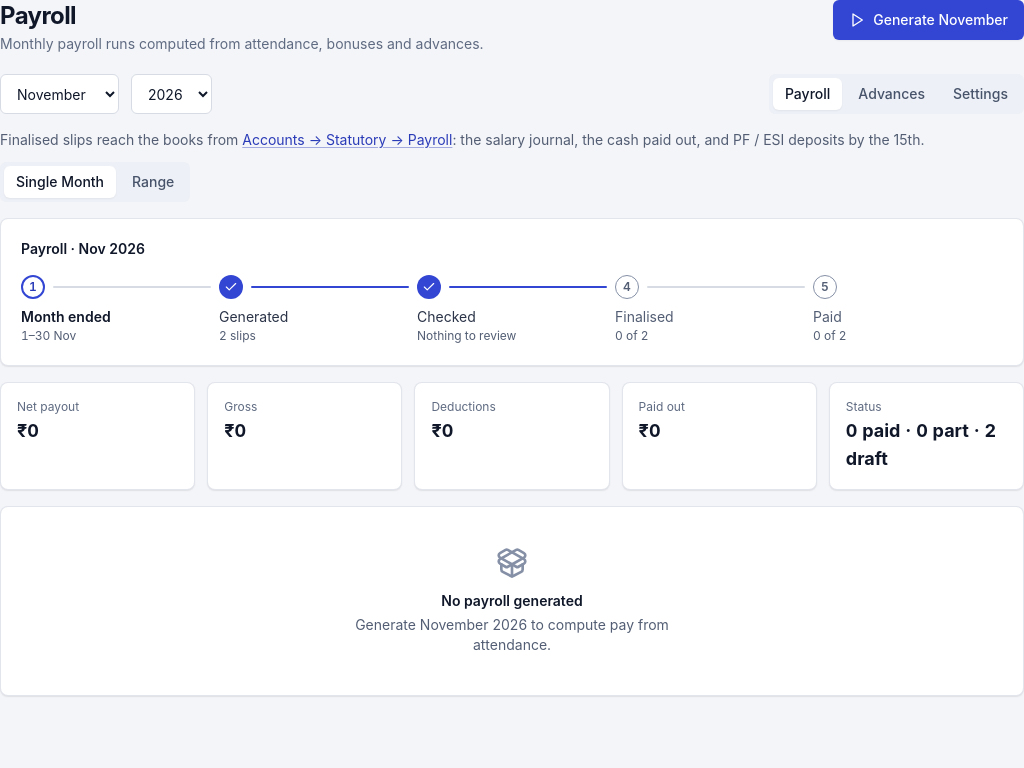
Test: working out the month's pay › says the draft slips it replaces and that paid slips are kept
Click the button "advances". click: (892, 94)
box: [846,78,937,110]
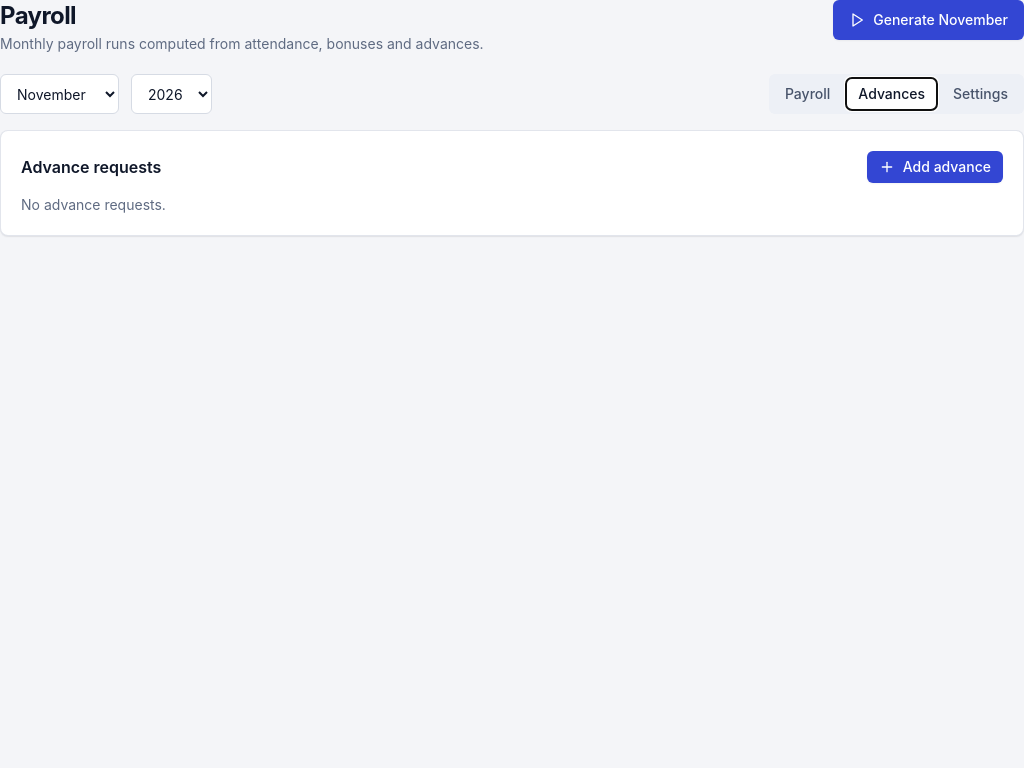
Click the button "Generate November". click: (929, 20)
box: [833,0,1023,40]
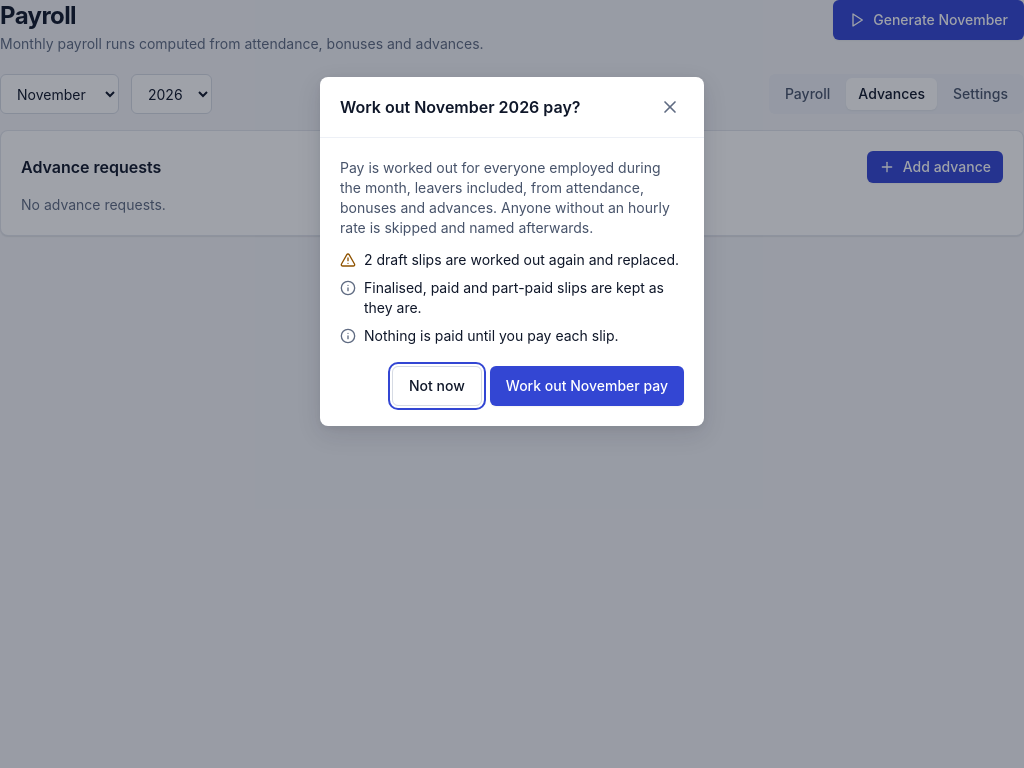
Now the dialog shows "2 draft slips are worked out again and replaced.", box [364,251,679,268]
Now the dialog shows "Finalised, paid and part-paid slips are kept as they are.", box [364,279,664,316]
